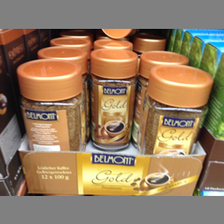coffee: (137, 63, 213, 155), (16, 58, 87, 151), (90, 48, 139, 151)
